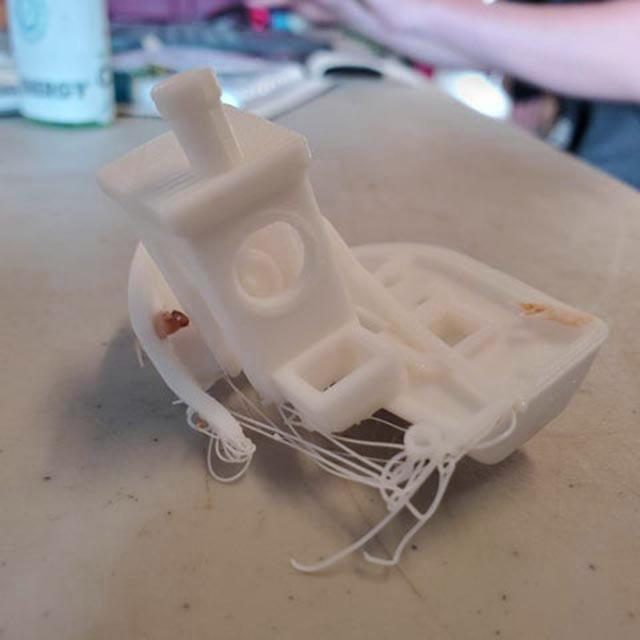spaghetti: (167, 342, 472, 580)
